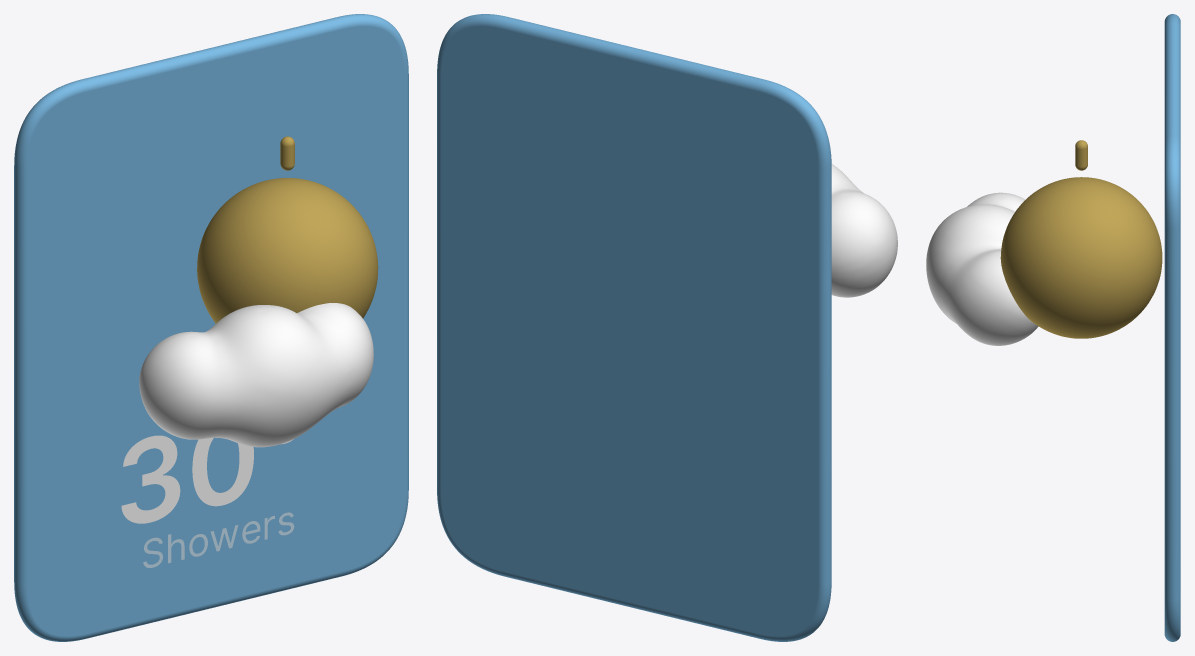
Rendered from rain.gltf.
3 views of the same model, side by side, from view 1: azimuth 30°, elevation 25°; view 2: azimuth 150°, elevation 25°; view 3: azimuth 270°, elevation 25° (orthographic). The views are drawn at different scales.
Parts seen in each view (by area): view 1: Rectangle, Cloud, Sphere, Text, Text 2; view 2: Rectangle, Cloud; view 3: Sphere, Cloud, Rectangle, Group.
Boxes of the visible parts, bbox=[...] form: Rectangle: bbox=[14, 14, 408, 641]; Cloud: bbox=[139, 303, 373, 447]; Sphere: bbox=[197, 178, 378, 323]; Text: bbox=[121, 435, 293, 523]; Text 2: bbox=[143, 512, 294, 567]; Rectangle: bbox=[437, 14, 831, 641]; Cloud: bbox=[831, 164, 897, 297]; Sphere: bbox=[1000, 177, 1162, 338]; Cloud: bbox=[926, 192, 1038, 345]; Rectangle: bbox=[1164, 14, 1180, 641]; Group: bbox=[1075, 140, 1087, 170].
Bounding box in the file's own units: 2.5 × 3.4 × 1.57.
